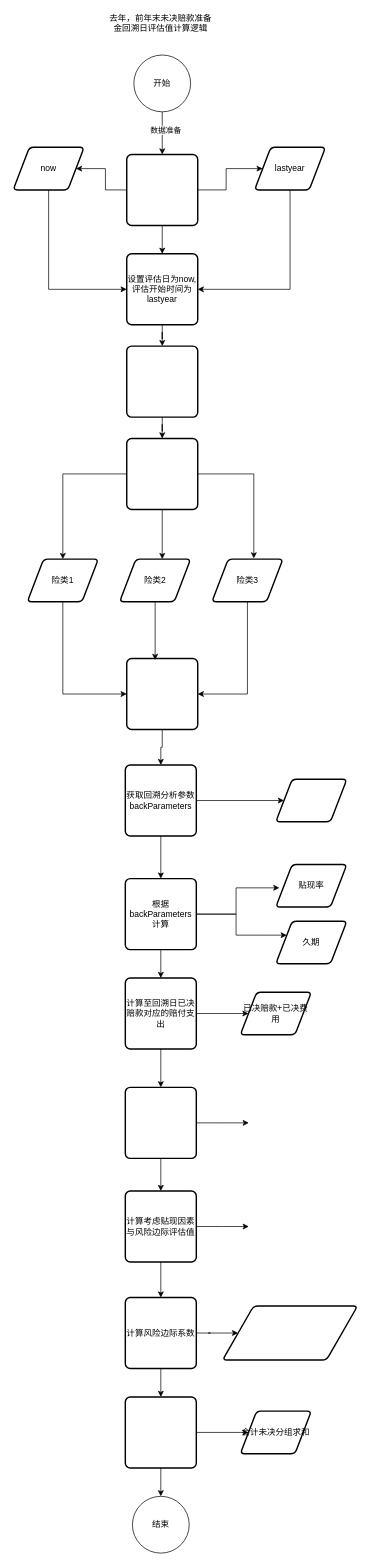
Image size: 370x1566. Some labels were removed from this diagram. The centre of each missing label's shape, as x and y in pixels:
backParameters: point 311,800
执行再保前，再保后计算: point 162,381
获取去年或前年评估月份的所有理赔融合表数据，并根据险类分组: point 162,473
获取当前时间now，去年或前年当前时间lastyear: point 162,189
计算不考虑贴现因素与风险边际评估值: point 160,1122
计算未决赔款准备金评估值: point 160,1432
进入计算逻辑: point 162,693
风险边际（分再保前和再保后）分组求平均数/考虑贴现因素 与风险边际的评估值: point 290,1332
